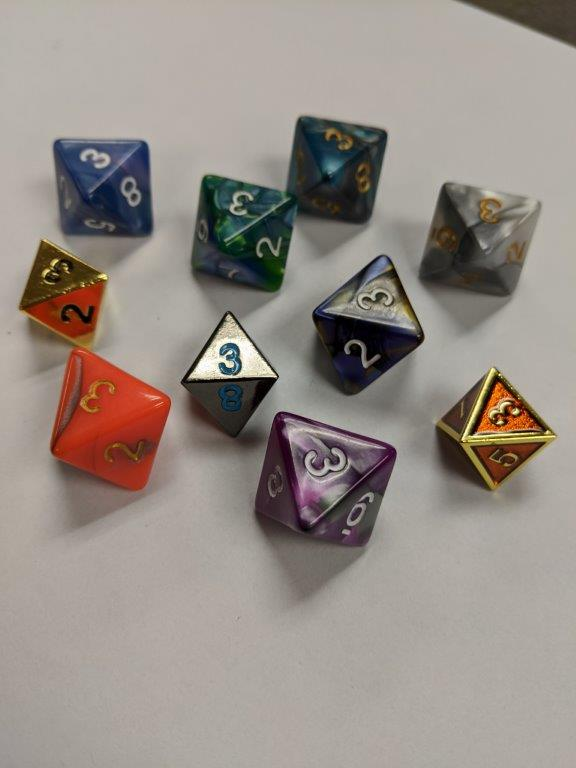d8-3: (247, 411, 398, 550), (50, 343, 175, 490), (310, 254, 428, 396), (435, 364, 553, 495), (415, 181, 543, 295), (180, 313, 282, 441), (188, 172, 299, 288), (286, 115, 386, 224), (52, 134, 152, 237), (16, 239, 108, 349)
